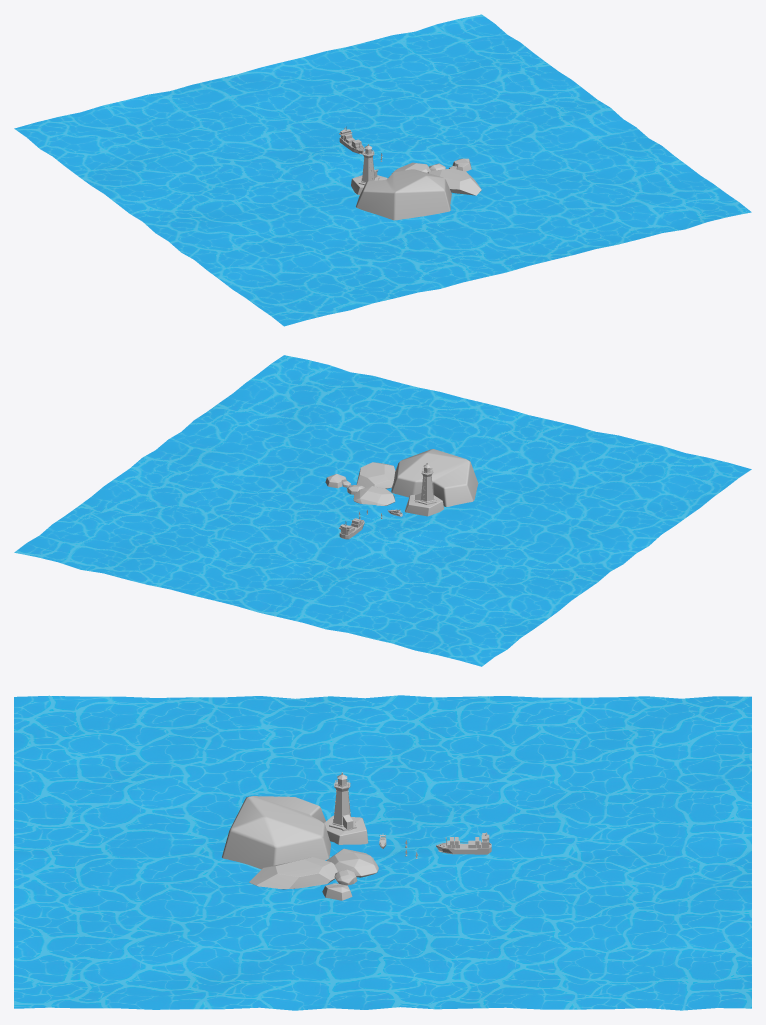
File: changjing6_1.fbx
The picture shows the model from 3 angles, top to bottom: view 1: azimuth 30°, elevation 25°; view 2: azimuth 150°, elevation 25°; view 3: azimuth 270°, elevation 25°; orthographic projection. The views are drawn at different scales.
Visible parts, largest first — view 1: changjing6_1; view 2: changjing6_1; view 3: changjing6_1, HuoLun.
Part boxes in pixels (<box>): changjing6_1: <box>14,14,751,326</box>; changjing6_1: <box>14,355,751,666</box>; changjing6_1: <box>14,695,751,1010</box>; HuoLun: <box>436,832,491,854</box>.
Bounding box in the file's own units: 50226 × 5803 × 50226.
